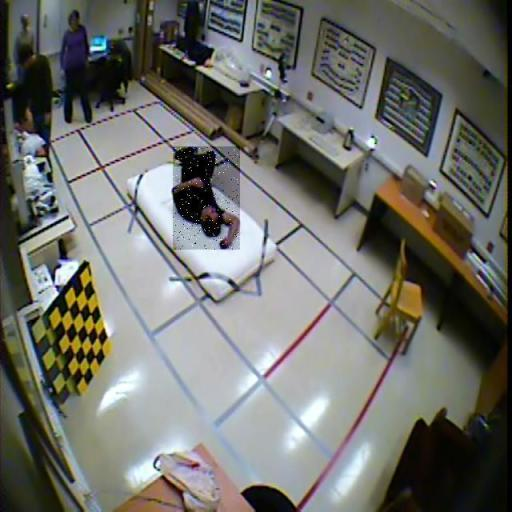Fall: (173, 147, 240, 250)
